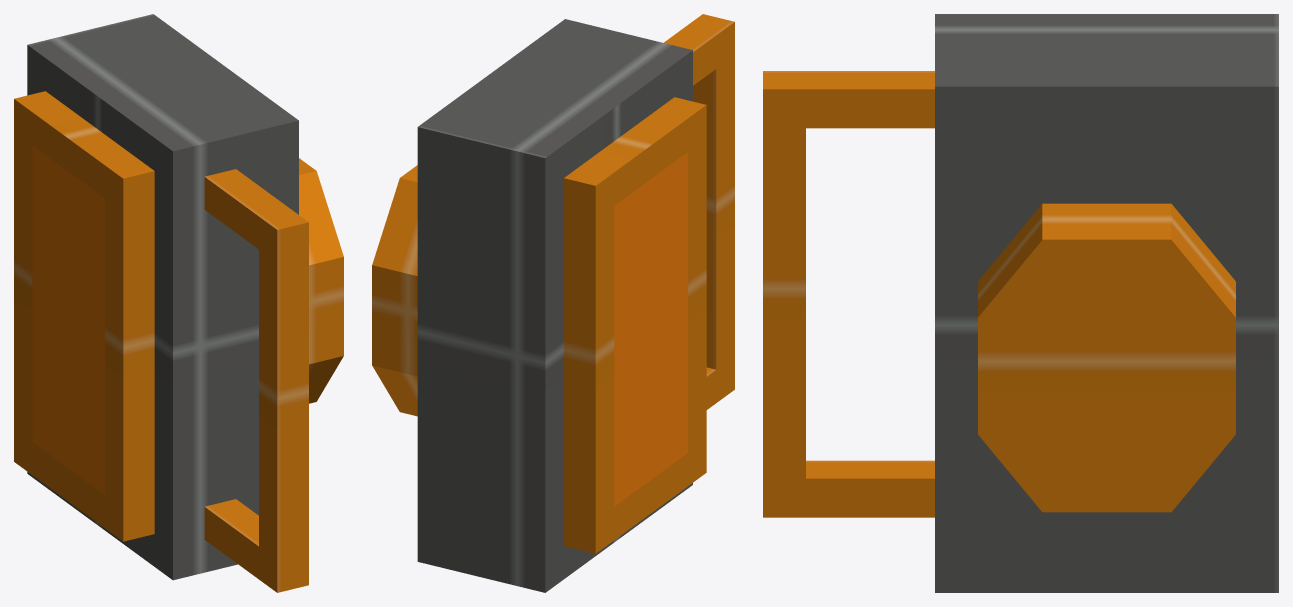
Rendered from camera.vmf.obj.
The picture shows the model from 3 angles, left to right: view 1: azimuth 30°, elevation 25°; view 2: azimuth 150°, elevation 25°; view 3: azimuth 270°, elevation 25°; orthographic projection. The views are drawn at different scales.
Parts seen in each view (by area): view 1: 158, 214, 130, 223, 225, 6, 231, 128, 129, 233; view 2: 158, 214, 225, 130, 6, 223, 231, 233, 128; view 3: 158, 6, 130, 128, 129.
Part boxes in pixels (x1,y1,x2,y2): 158: (27, 14, 298, 580); 214: (32, 145, 104, 494); 130: (259, 209, 308, 592); 223: (105, 158, 154, 541); 225: (14, 91, 63, 474); 6: (299, 158, 343, 403); 231: (32, 104, 136, 197); 128: (204, 169, 289, 249); 129: (204, 499, 258, 579); 233: (32, 442, 104, 527); 158: (417, 19, 692, 592); 214: (614, 152, 687, 506); 225: (564, 164, 614, 553); 130: (684, 14, 734, 402); 6: (372, 165, 417, 416); 223: (656, 97, 706, 485); 231: (583, 110, 687, 205); 233: (614, 453, 687, 539); 128: (664, 27, 716, 85); 158: (935, 14, 1278, 592); 6: (978, 203, 1235, 512); 130: (763, 71, 805, 517); 128: (806, 71, 934, 128); 129: (806, 460, 934, 517).
Size of the model in its own units: 7 by 13 by 12.
3 materials, 3 textured.
